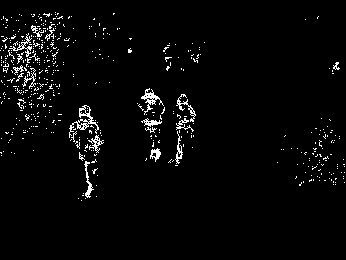person: (67, 103, 106, 202), (137, 86, 165, 162), (170, 91, 197, 166)
